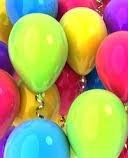Balloon: (9, 13, 68, 96), (65, 89, 128, 158), (59, 7, 106, 76), (4, 120, 69, 158), (97, 31, 128, 102)
